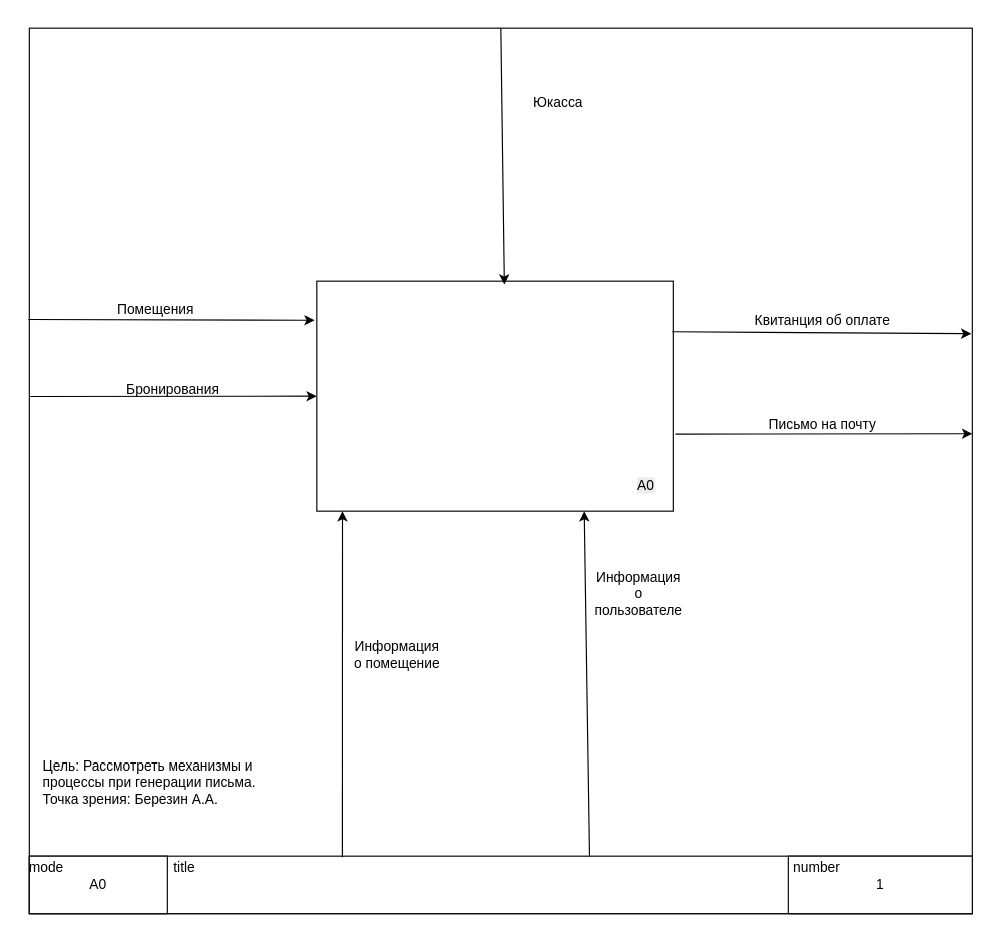
Image size: 1002x934. Some labels were removed from this diagram. The box of each missing label's shape, as (x1, y1, x2, y2) in pixels:
Внесение предоплаты пользователем: (316, 280, 673, 511)
Генерация письма: (28, 855, 972, 914)
